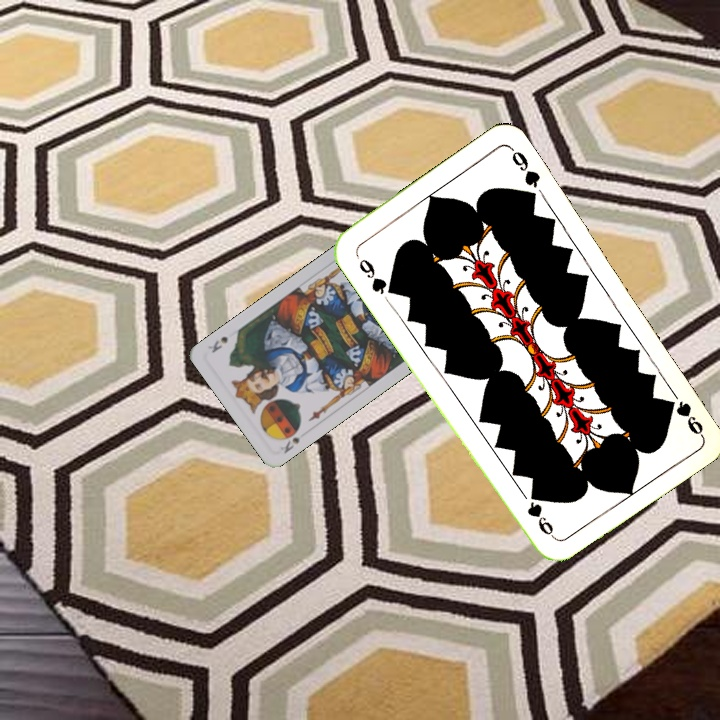G9: (352, 250, 398, 297), (672, 397, 706, 438)
SK: (276, 433, 303, 456)
